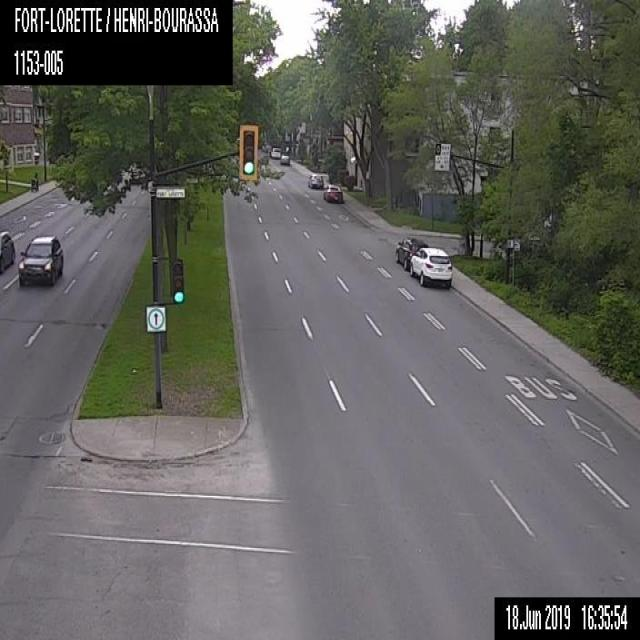pedestrian: (28, 171, 38, 193)
vehicle: (16, 235, 64, 287), (410, 246, 453, 288), (394, 236, 428, 271), (0, 230, 14, 274), (322, 183, 343, 204), (307, 173, 323, 187), (269, 144, 281, 158), (279, 154, 290, 166)
